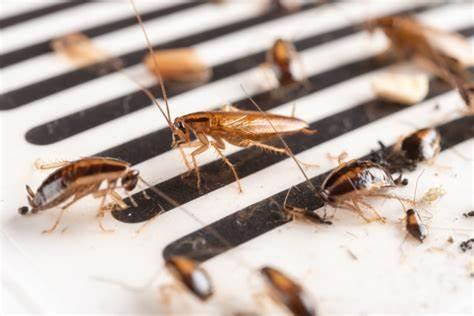cockroach: (374, 11, 474, 99), (25, 156, 140, 220), (167, 106, 307, 158), (311, 156, 399, 208), (166, 249, 214, 303), (397, 122, 440, 167), (268, 35, 302, 88), (258, 264, 302, 300), (278, 202, 327, 228), (401, 207, 429, 243)
